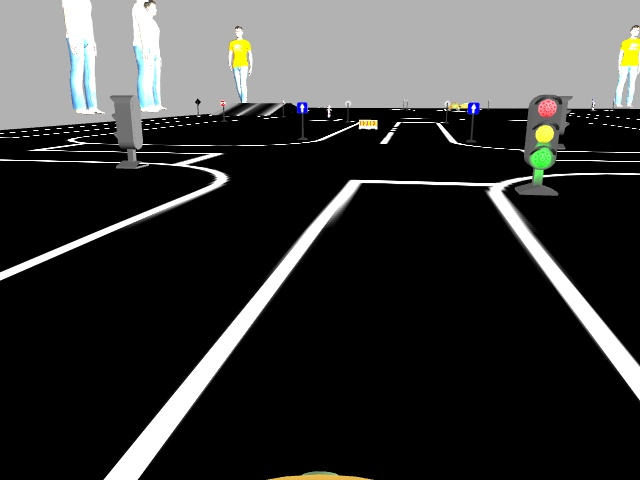ClosedRoadStand: (358, 119, 376, 129)
OneWay: (467, 102, 478, 114), (297, 101, 306, 112)
TrafficLight: (525, 93, 559, 170)
